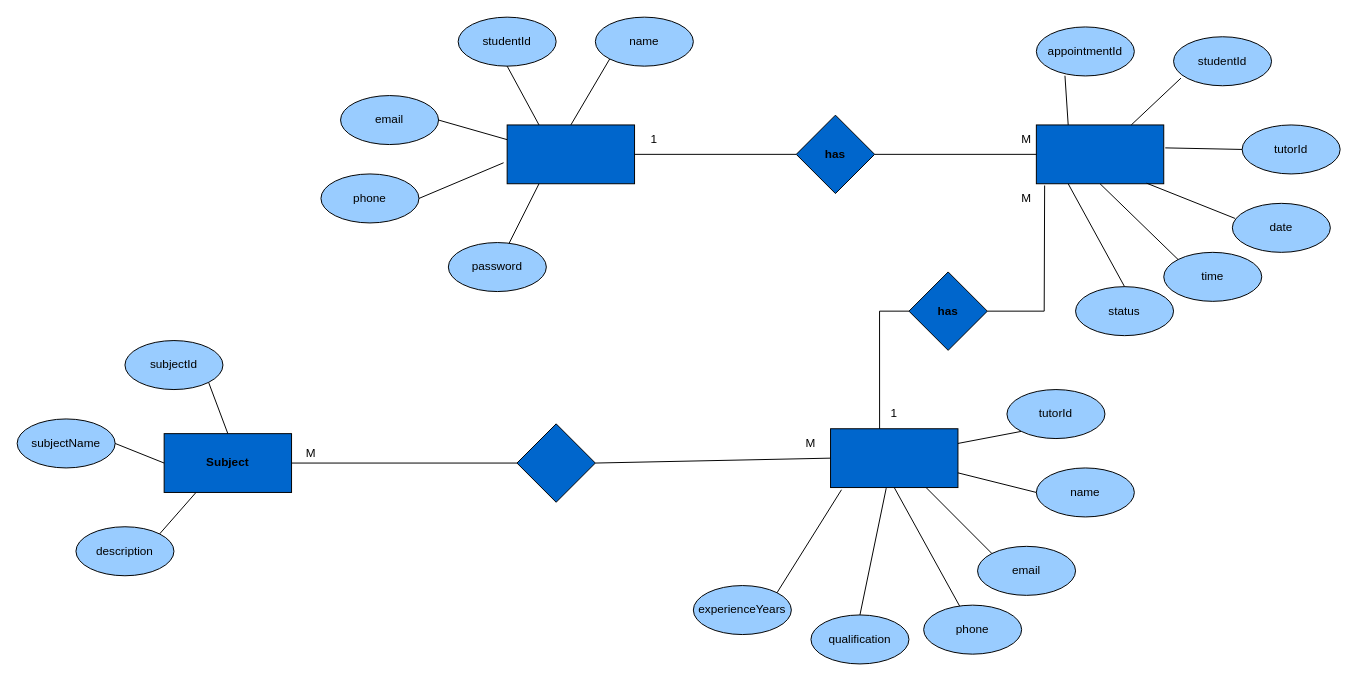
The diagram is 1357 pixels wide and 681 high, and some of its shapes have lost their labels. Here are the shapes that lost their labels. From the top down, the centre of each, then its label:
At [570,154]: "Student".
At [1099,154]: "Appointment".
At [555,462]: "teach".
At [894,458]: "Tutor".
